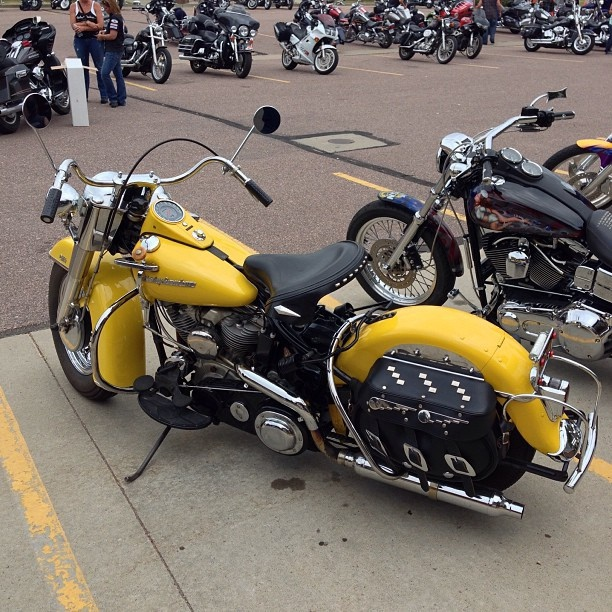non-vehicle: (41, 106, 603, 518), (344, 86, 612, 365), (0, 16, 70, 132), (176, 8, 261, 78), (121, 4, 173, 87), (522, 0, 597, 54), (274, 13, 339, 74), (396, 11, 458, 64), (144, 0, 197, 43)
